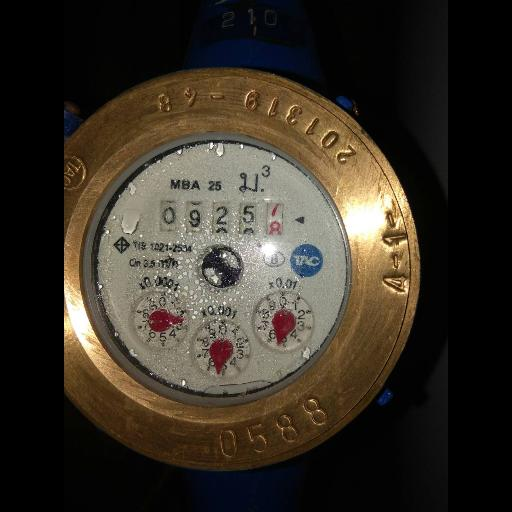0: (160, 199, 176, 236)
2: (213, 200, 230, 237)
5: (240, 199, 257, 236)
7: (267, 200, 284, 236)
9: (186, 199, 203, 236)
border_water_meter_number: (160, 199, 284, 236)
